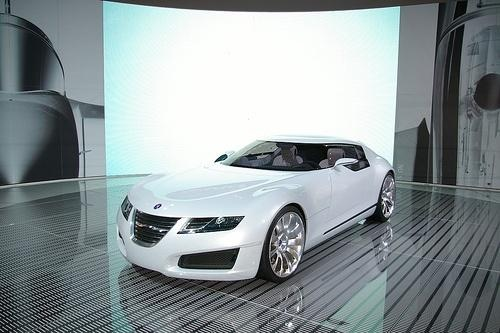car: (116, 135, 398, 284)
